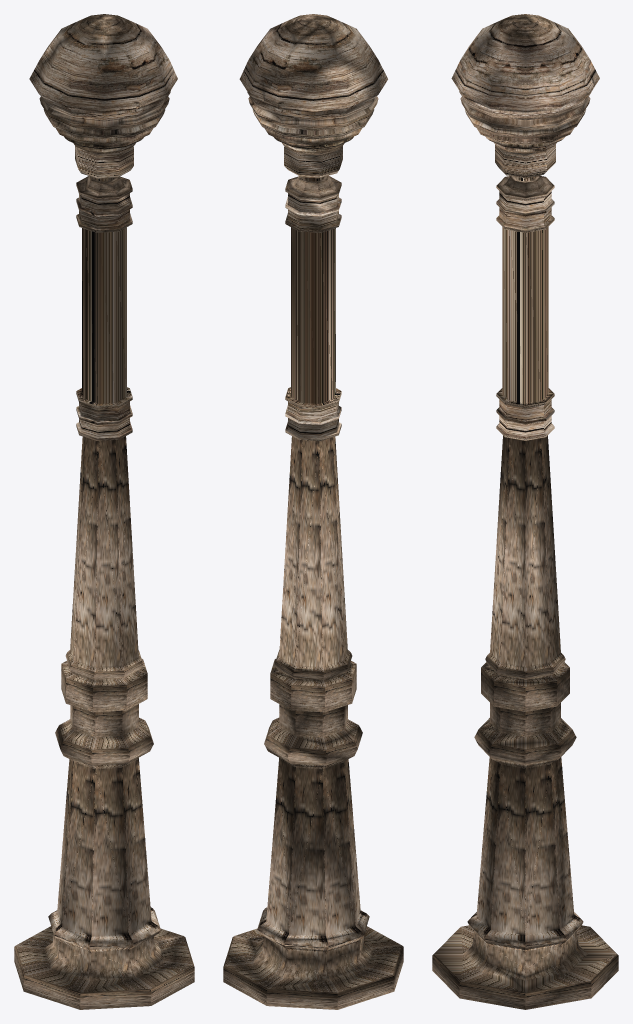
The model's file is lampclose1.obj.
3 views of the same model, side by side, from view 1: azimuth 30°, elevation 25°; view 2: azimuth 150°, elevation 25°; view 3: azimuth 270°, elevation 25° (orthographic).
Visible parts, largest first — view 1: default; view 2: default; view 3: default.
Part boxes in pixels (x1,y1,x2,y2): default: (14, 14, 194, 1009); default: (223, 14, 403, 1009); default: (432, 14, 618, 1009).
Size of the model in its own units: 0.555 by 3.12 by 0.5551.
1 material, 1 textured.
